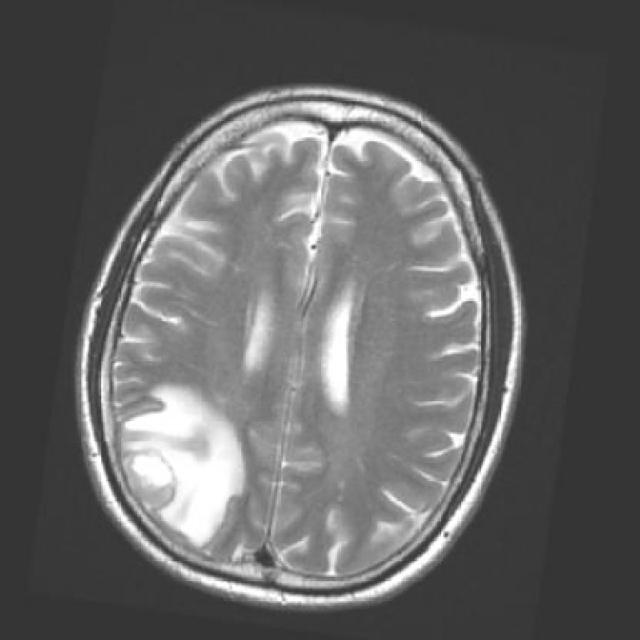Brain-Tumor: (100, 374, 277, 576)
